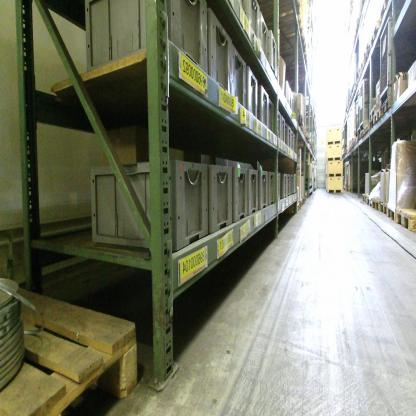pallet: (0, 284, 138, 415), (396, 207, 415, 231), (382, 96, 392, 115), (285, 202, 299, 213), (387, 204, 395, 221), (372, 199, 381, 211), (375, 108, 382, 122), (381, 202, 387, 216), (368, 109, 374, 122), (367, 196, 373, 208), (364, 122, 369, 133), (369, 117, 374, 128), (362, 193, 367, 203), (360, 129, 364, 138), (300, 199, 302, 209), (302, 197, 304, 205)
